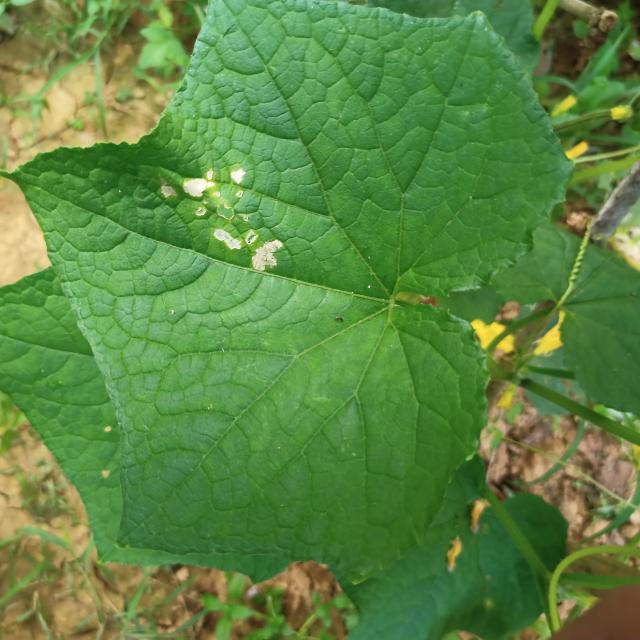disease_cucumber: (158, 162, 286, 282)
